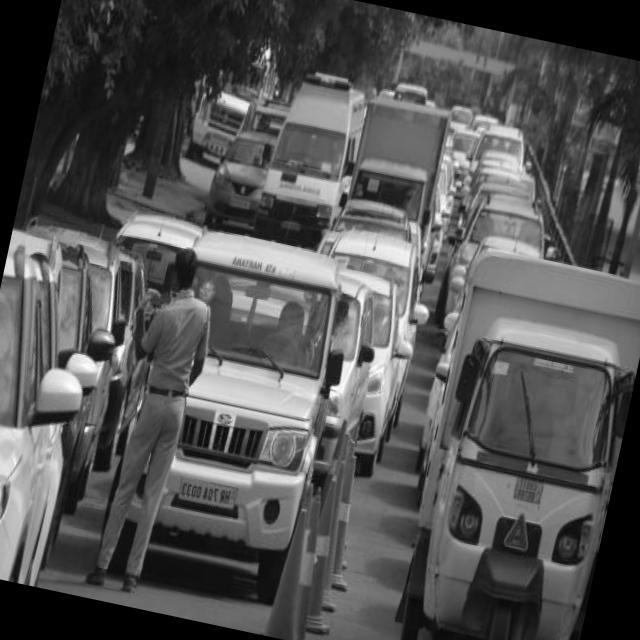ambulance: (252, 68, 372, 245)
